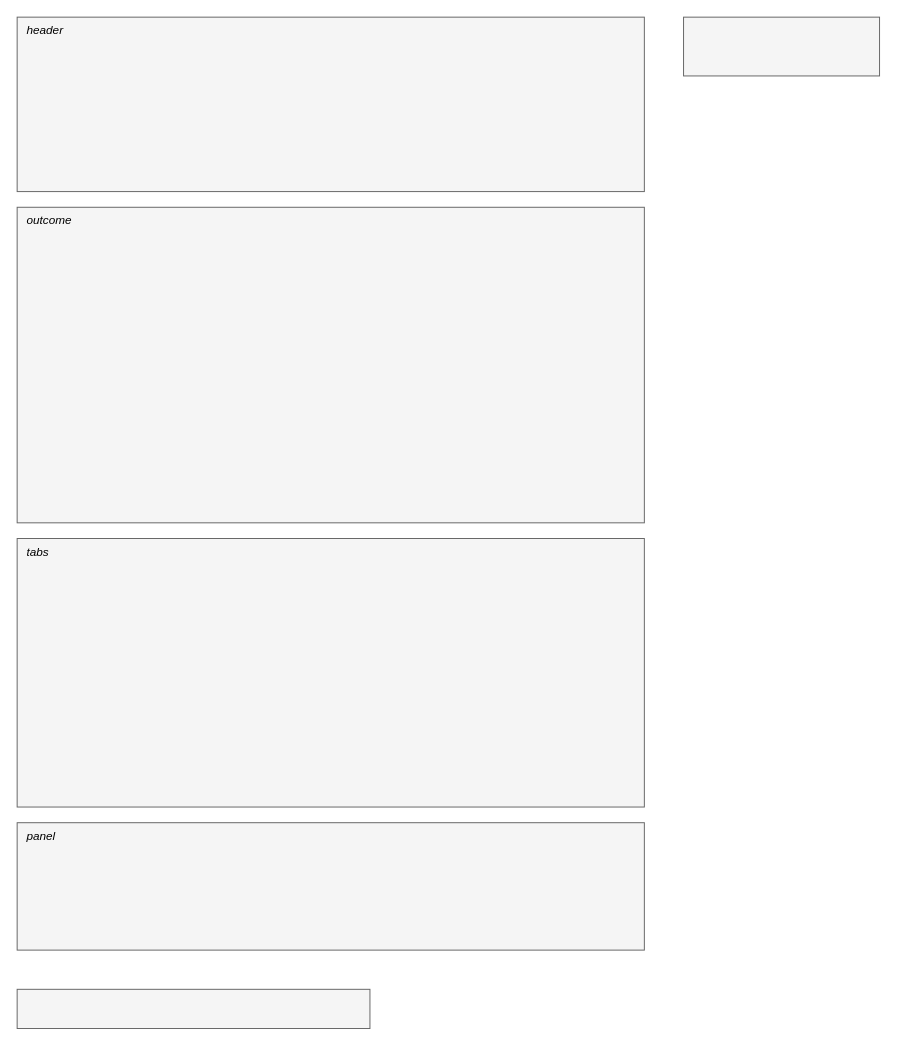
Some shapes in this 897 by 1046 pixel diagram are drawn without their labels. Each missing label, with the centre of its shape:
"Legend: each box is a region of the screen, its own view holds the shapes" belongs at pixel 193 1008.
"Other" belongs at pixel 781 46.
